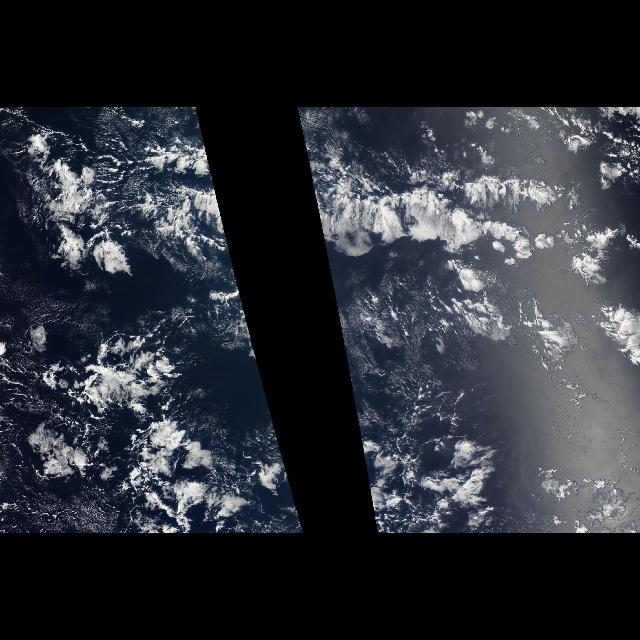Flower: (304, 137, 640, 311), (24, 144, 244, 312)
Gravel: (21, 302, 237, 518)
